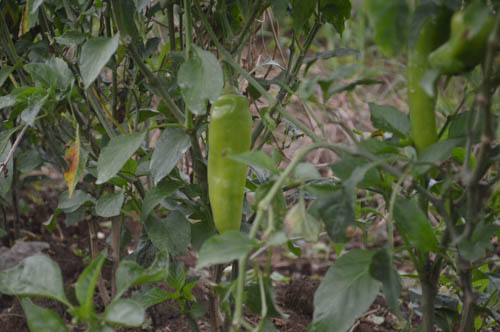ChiliPepper: (205, 95, 249, 234), (409, 26, 440, 152)
